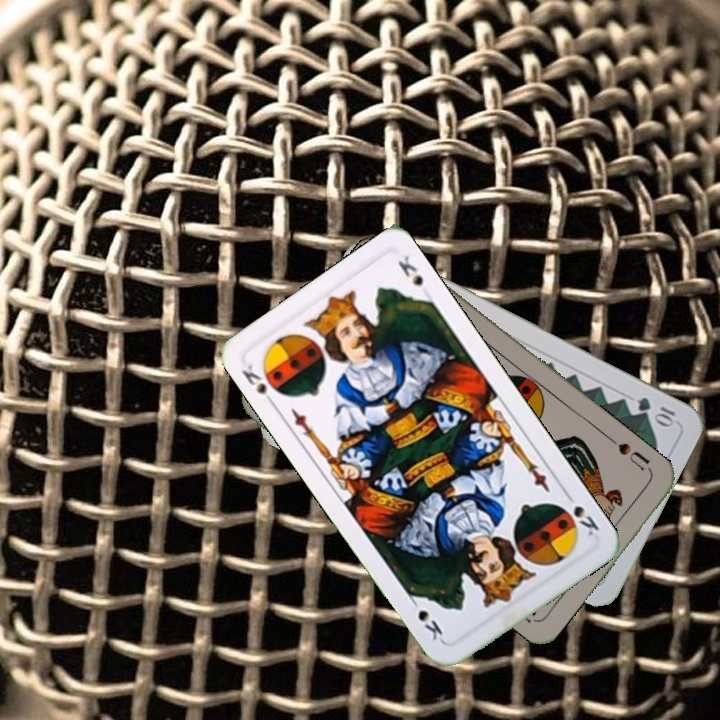G10: (632, 393, 678, 429)
SK: (237, 360, 285, 410), (560, 487, 602, 539)
SU: (605, 433, 655, 476)
